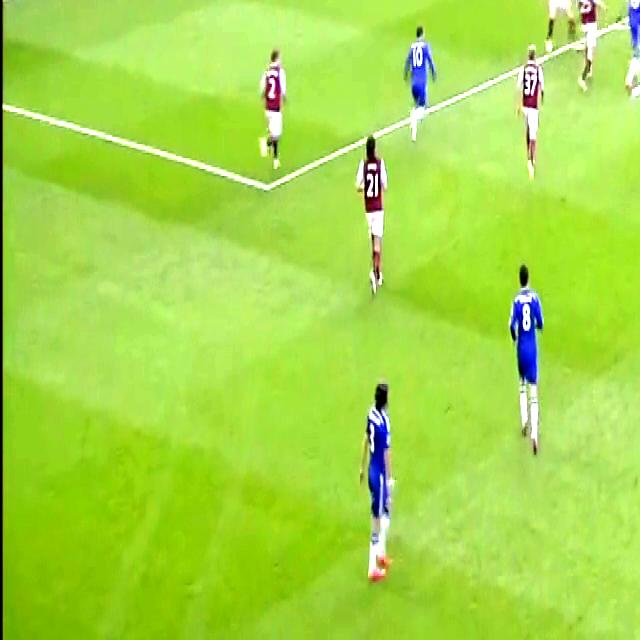soccer-player: (498, 246, 551, 459), (358, 366, 406, 589), (352, 124, 396, 303), (249, 30, 295, 189), (396, 11, 440, 152), (508, 36, 547, 187), (569, 0, 602, 94), (614, 0, 640, 94), (537, 0, 575, 60), (631, 55, 640, 206)
